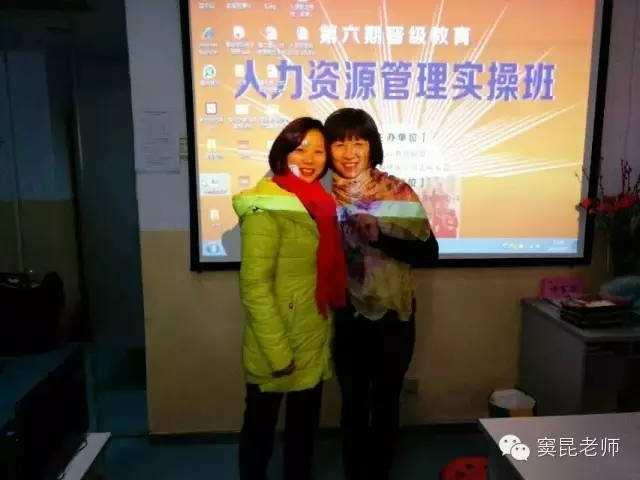up: (325, 108, 441, 474), (226, 114, 332, 474)
